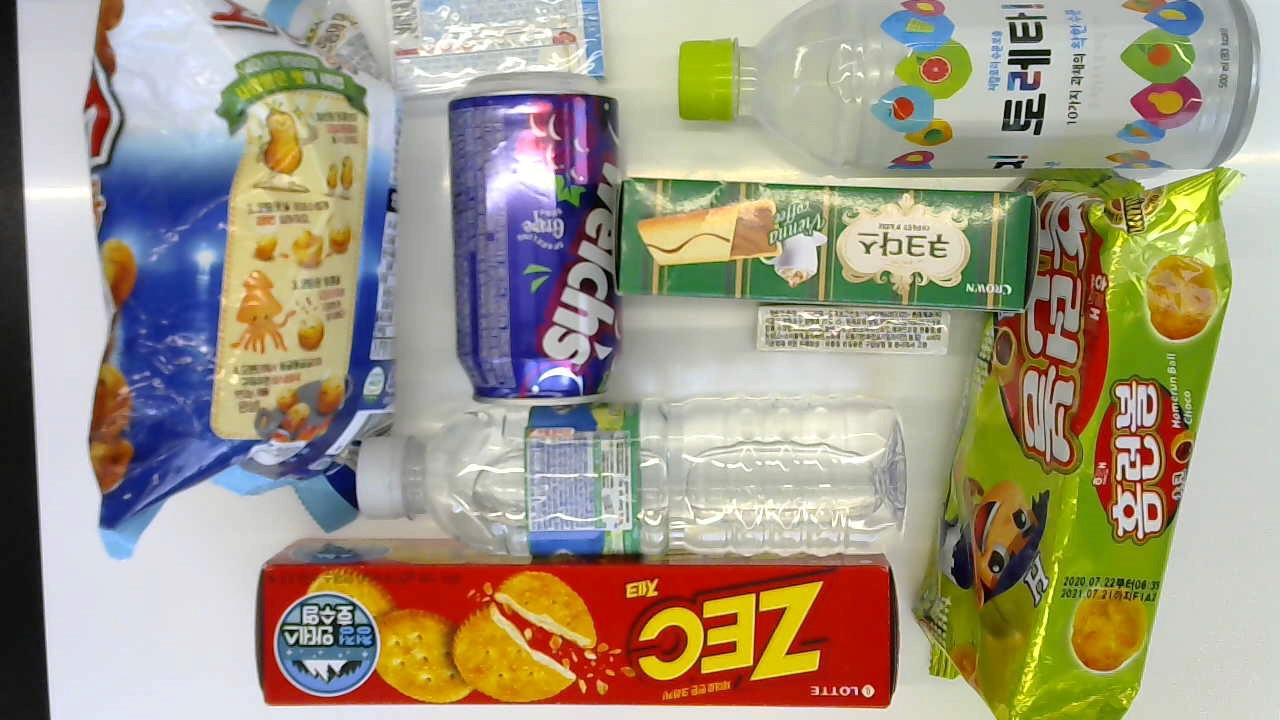ID_gum: (395, 0, 619, 110)
couque_coffee: (622, 169, 1025, 317)
homerunball: (914, 176, 1238, 718)
samdasu: (352, 398, 907, 559)
spearmint: (754, 304, 950, 357)
squid_peanut: (79, 0, 404, 569)
toreta: (668, 0, 1280, 178)
welchs: (449, 75, 618, 407)
zec: (255, 535, 899, 709)
